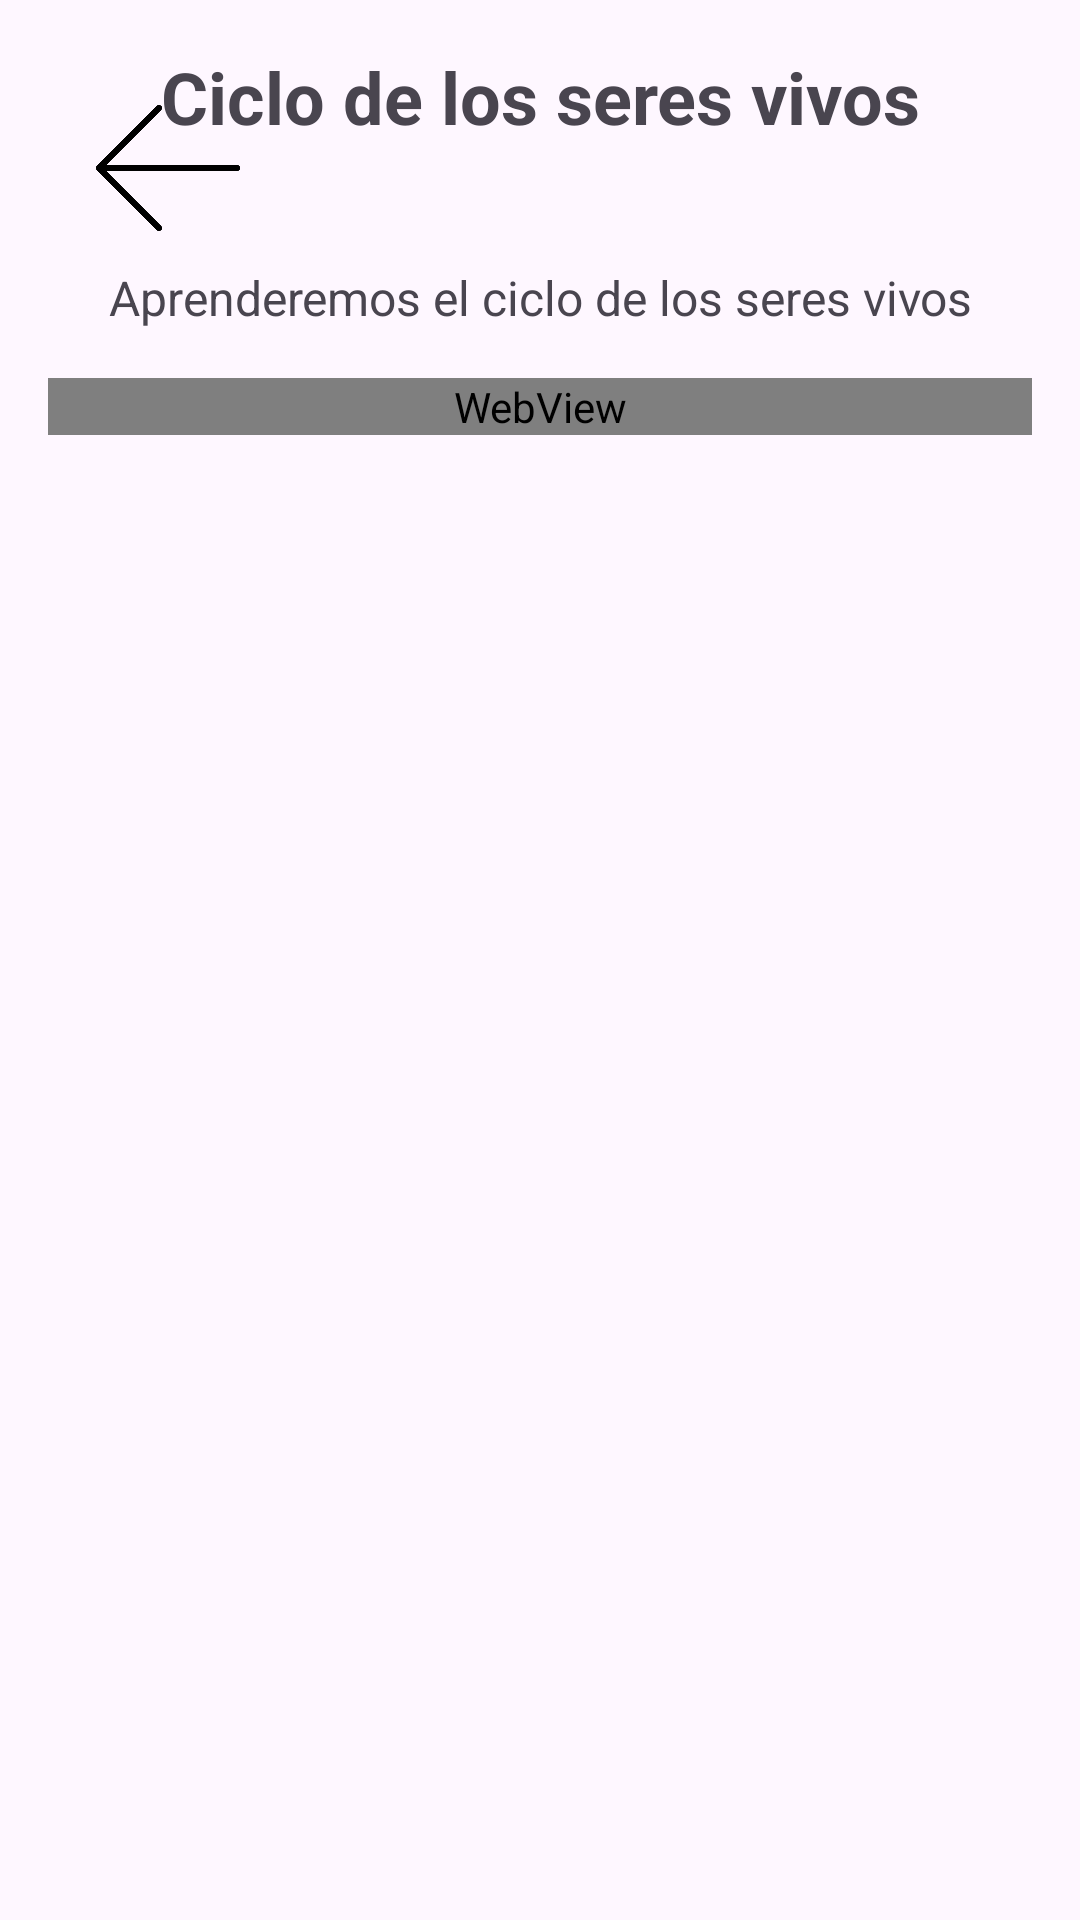

Where icons sit on this 1080 x 1920 app screen, as (x1, y1, x2, y2):
Botón de volver: (96, 105, 240, 231)
